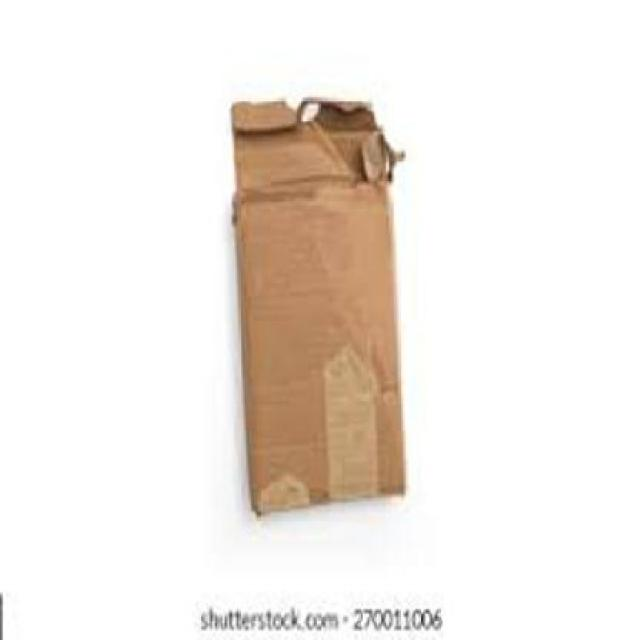defect: (222, 97, 412, 518)
